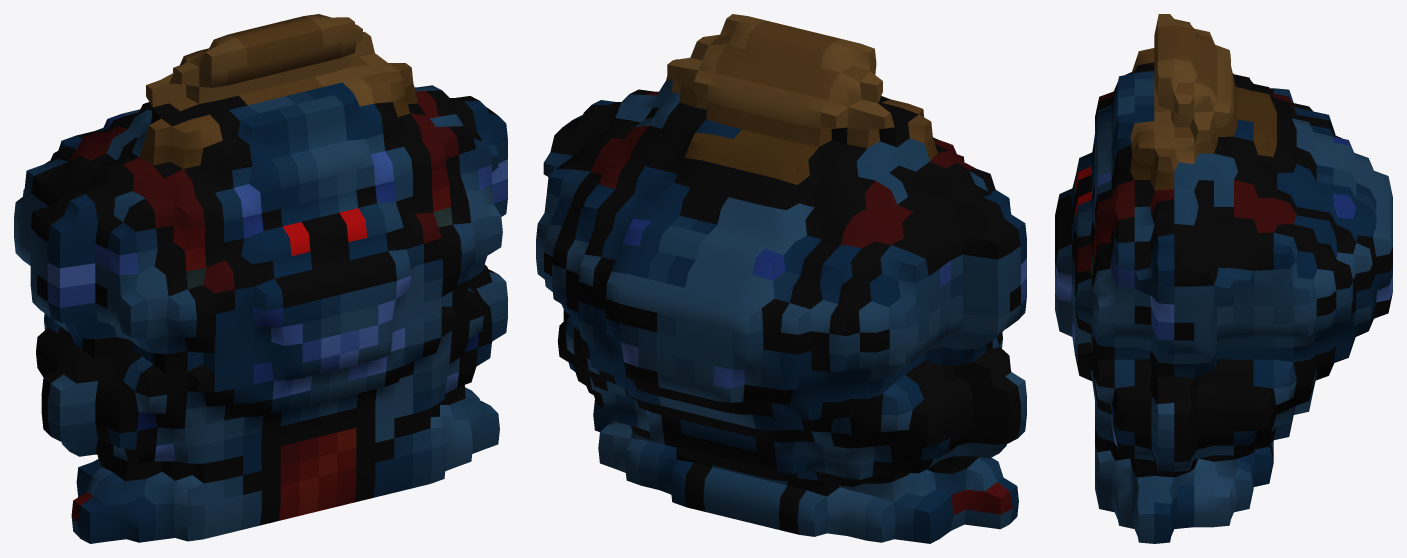
Rendered from Icon_723_02.obj.
The picture shows the model from 3 angles, left to right: view 1: azimuth 30°, elevation 25°; view 2: azimuth 150°, elevation 25°; view 3: azimuth 270°, elevation 25°; orthographic projection. The views are drawn at different scales.
Size of the model in its own units: 2.4 by 2.3 by 1.7.
